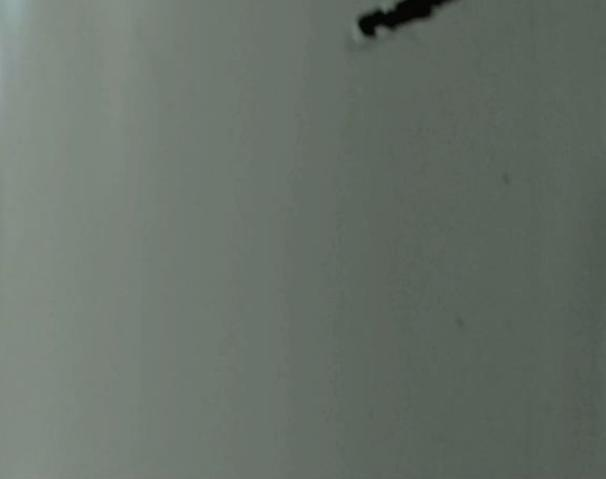fengxi: (354, 1, 469, 50)
